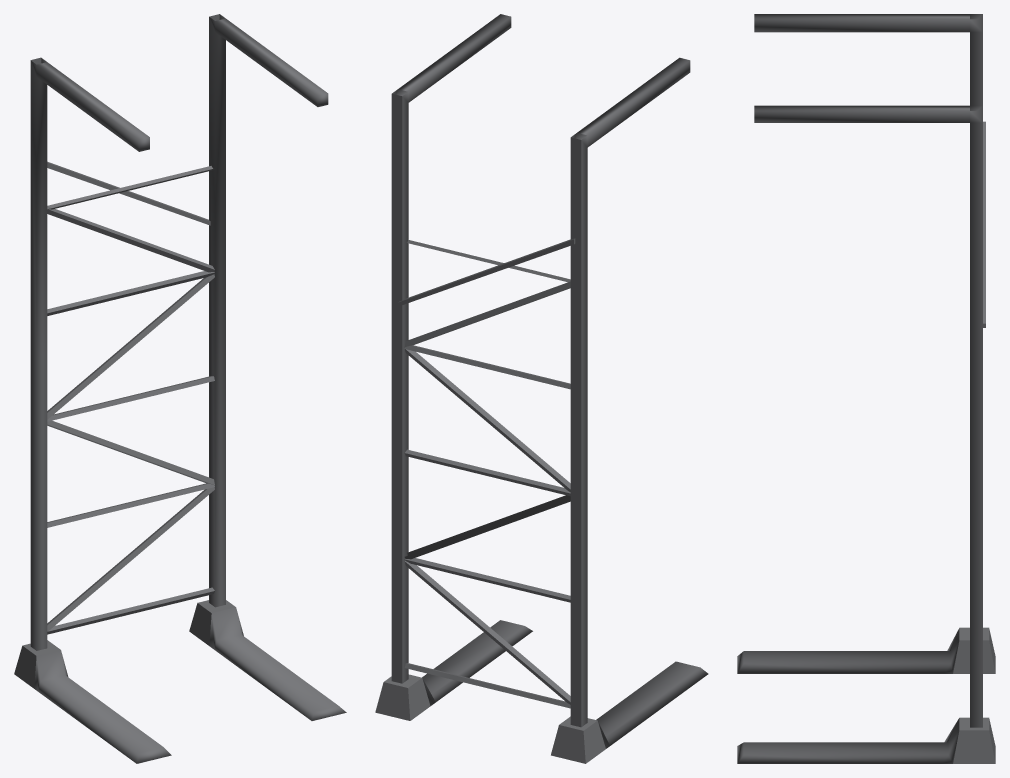
Rendered from platelevador.fbx.
3 renders of one model, left to right at view 1: azimuth 30°, elevation 25°; view 2: azimuth 150°, elevation 25°; view 3: azimuth 270°, elevation 25°, orthographic. The views are drawn at different scales.
Visible parts, largest first — view 1: watchtowerHigh; view 2: watchtowerHigh; view 3: watchtowerHigh.
Part boxes in pixels (bbox=[...]): watchtowerHigh: bbox=[14, 14, 346, 763]; watchtowerHigh: bbox=[375, 14, 708, 763]; watchtowerHigh: bbox=[737, 14, 995, 763].
Size of the model in its own units: 2.71 by 7.59 by 2.74.
